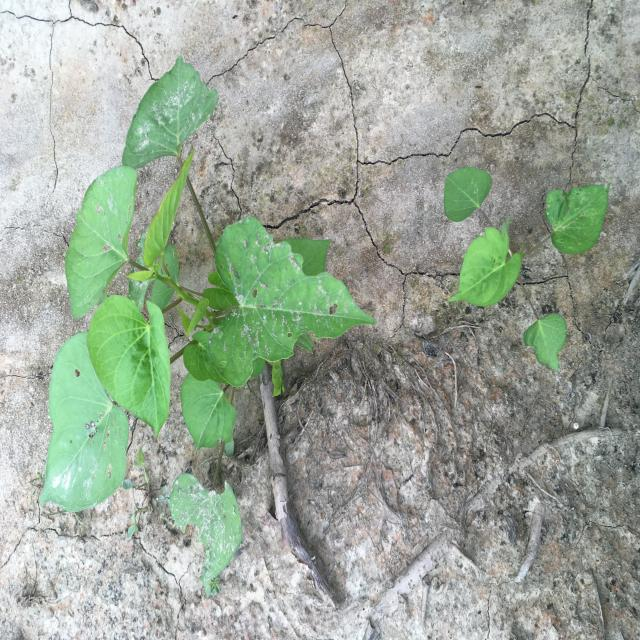MorningGlory: (39, 55, 376, 598), (444, 166, 611, 373)
